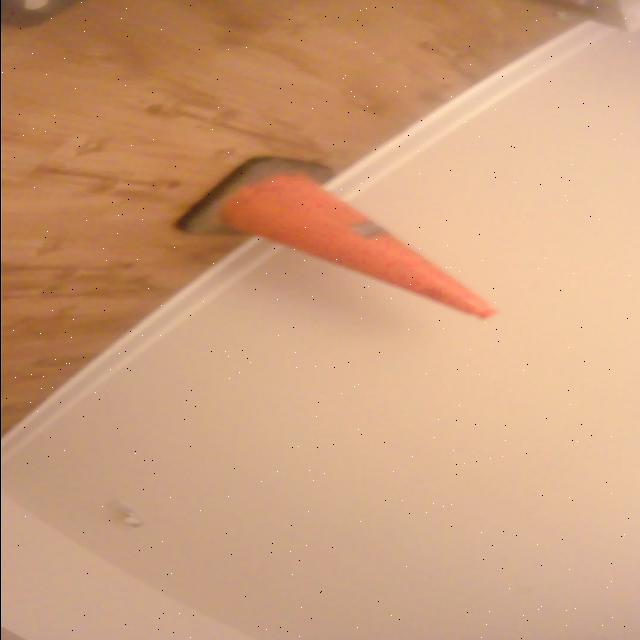traffic cone: (171, 154, 502, 326)
